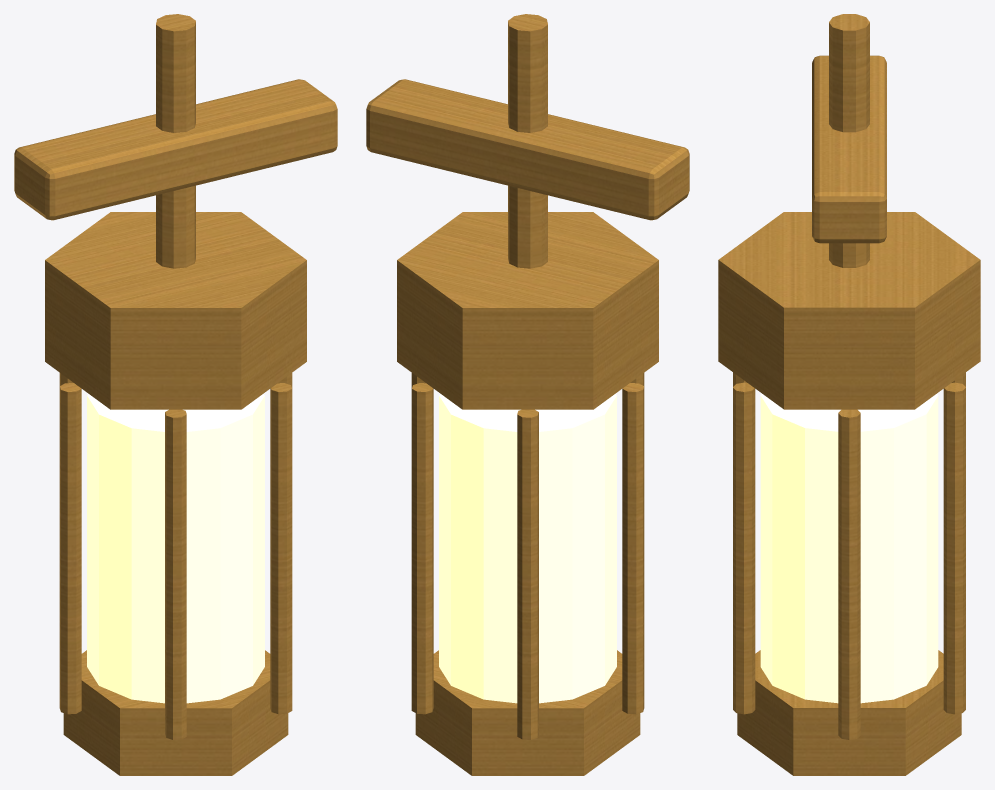
Rendered from act3_arch_lantern.glb.
3 views of the same model, side by side, from view 1: azimuth 30°, elevation 25°; view 2: azimuth 150°, elevation 25°; view 3: azimuth 270°, elevation 25° (orthographic).
Visible parts, largest first — view 1: SM_Act3_LanternFrame, ANIM_Act3_LanternCore; view 2: SM_Act3_LanternFrame, ANIM_Act3_LanternCore; view 3: SM_Act3_LanternFrame, ANIM_Act3_LanternCore.
Boxes of the visible parts, box(x1,y1,x2,y2) form: SM_Act3_LanternFrame: box(14, 14, 337, 775); ANIM_Act3_LanternCore: box(87, 394, 264, 703); SM_Act3_LanternFrame: box(366, 14, 689, 775); ANIM_Act3_LanternCore: box(439, 394, 616, 703); SM_Act3_LanternFrame: box(718, 14, 980, 775); ANIM_Act3_LanternCore: box(760, 394, 938, 703).
Size of the model in its own units: 0.36 by 0.84 by 0.28.
2 materials, 1 textured.
